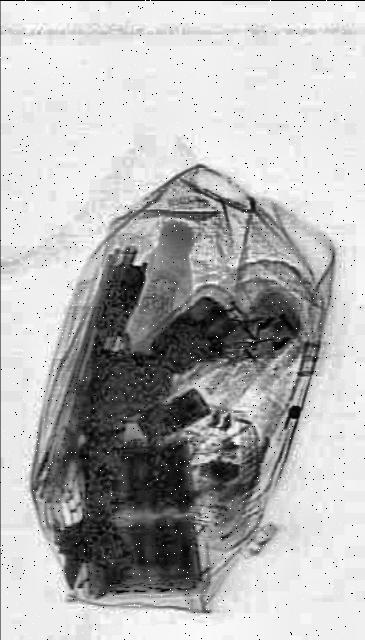Wrench: (52, 316, 150, 604)
